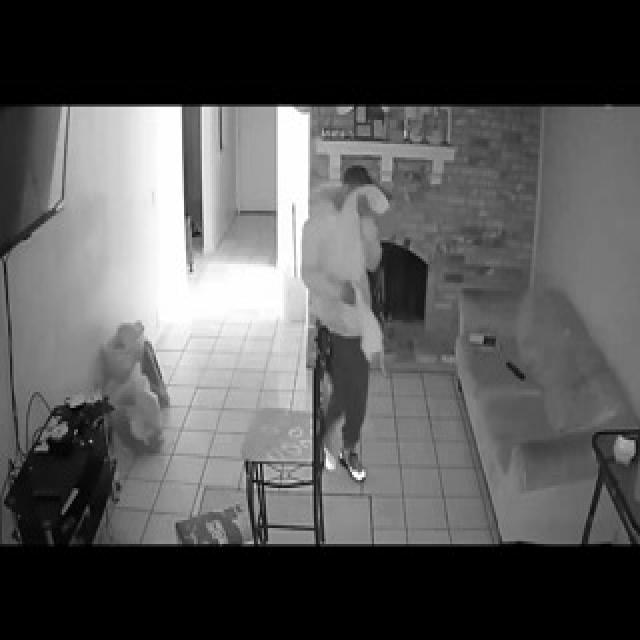thief: (314, 131, 395, 299)
